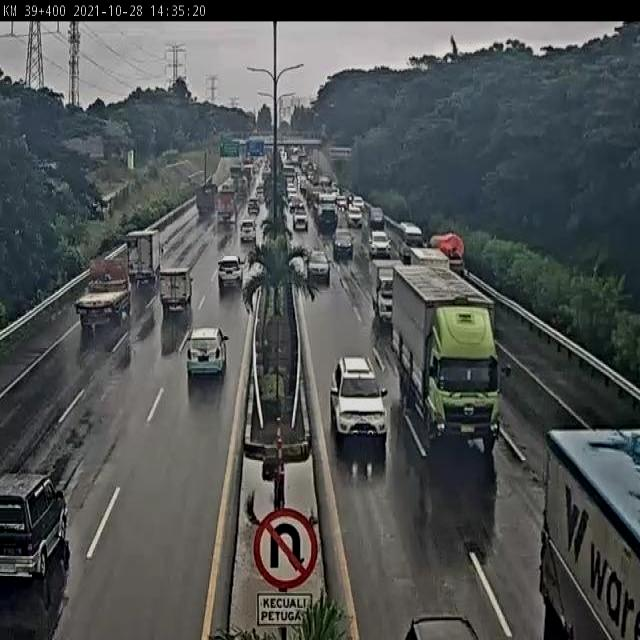Car: (0, 469, 73, 580), (330, 355, 387, 450), (185, 325, 227, 378), (401, 613, 483, 640), (372, 261, 397, 326), (217, 254, 244, 290), (307, 250, 331, 282), (399, 222, 424, 248), (369, 230, 391, 259), (334, 230, 354, 260), (239, 219, 257, 243), (293, 209, 308, 231), (290, 196, 305, 215), (247, 196, 260, 215), (286, 178, 296, 201), (352, 196, 364, 215), (336, 194, 348, 212), (330, 183, 340, 201), (256, 181, 265, 198)
Truck: (392, 267, 499, 460), (76, 251, 132, 337), (124, 230, 160, 292), (216, 181, 237, 223), (241, 163, 256, 191), (368, 206, 384, 228), (307, 183, 321, 206), (298, 178, 310, 202), (283, 164, 295, 186), (319, 176, 332, 193), (262, 160, 271, 179)
